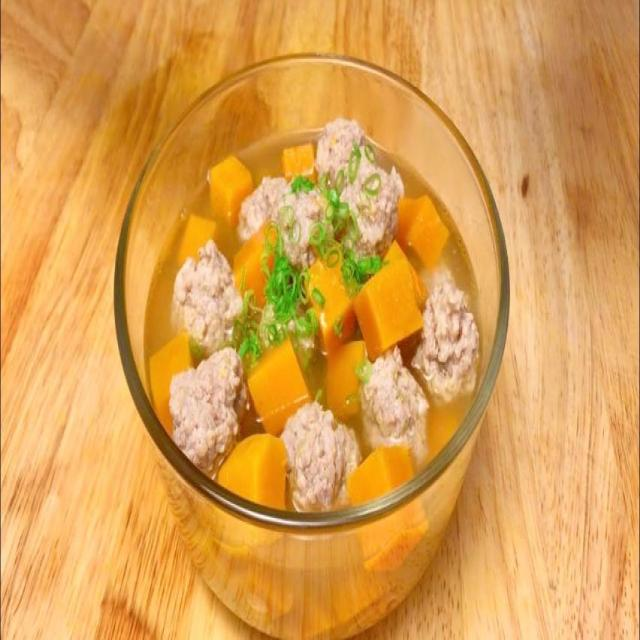canh bi do: (145, 122, 482, 511)
